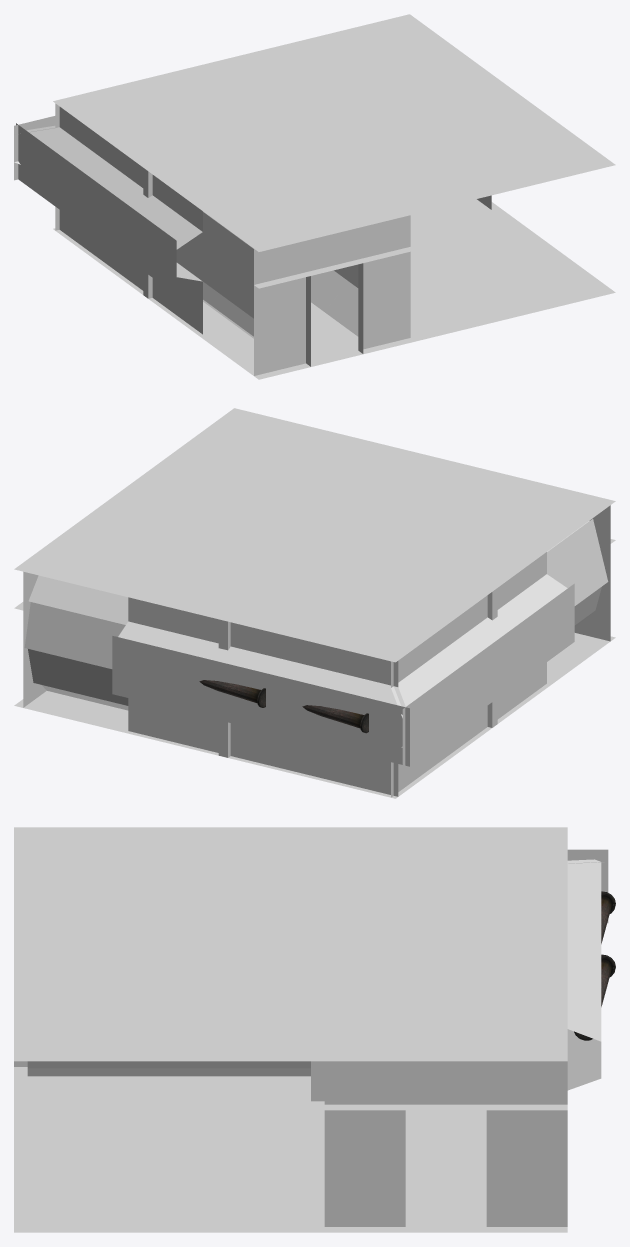
The model's file is room2C_Hcz1.fbx.
3 views of the same model, one above another, from view 1: azimuth 30°, elevation 25°; view 2: azimuth 150°, elevation 25°; view 3: azimuth 270°, elevation 25° (orthographic). The views are drawn at different scales.
Visible parts, largest first — view 1: room2C_Hcz1; view 2: room2C_Hcz1; view 3: room2C_Hcz1.
Part boxes in pixels (bbox=[...]): room2C_Hcz1: bbox=[14, 14, 615, 379]; room2C_Hcz1: bbox=[14, 408, 615, 798]; room2C_Hcz1: bbox=[14, 827, 615, 1232].
Size of the model in its own units: 14.08 by 4.48 by 14.26.
